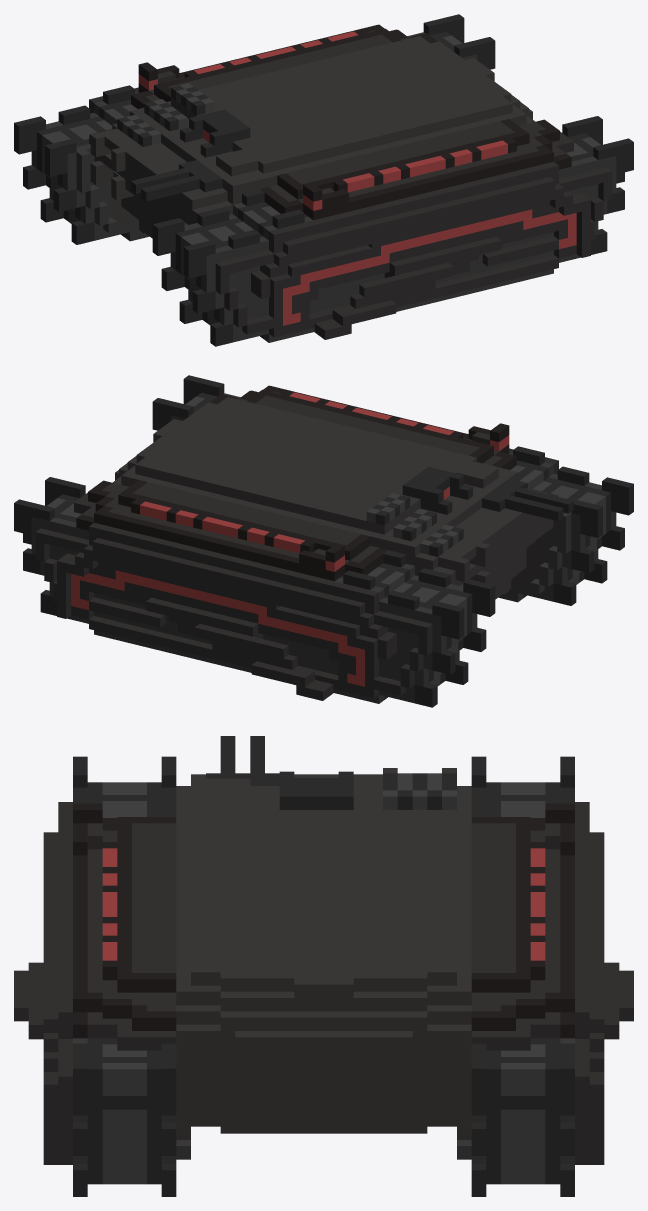
The model's file is infinity_tank-1.obj.
3 views of the same model, one above another, from view 1: azimuth 30°, elevation 25°; view 2: azimuth 150°, elevation 25°; view 3: azimuth 270°, elevation 25° (orthographic). The views are drawn at different scales.
Size of the model in its own units: 5 by 1.6 by 4.2.
